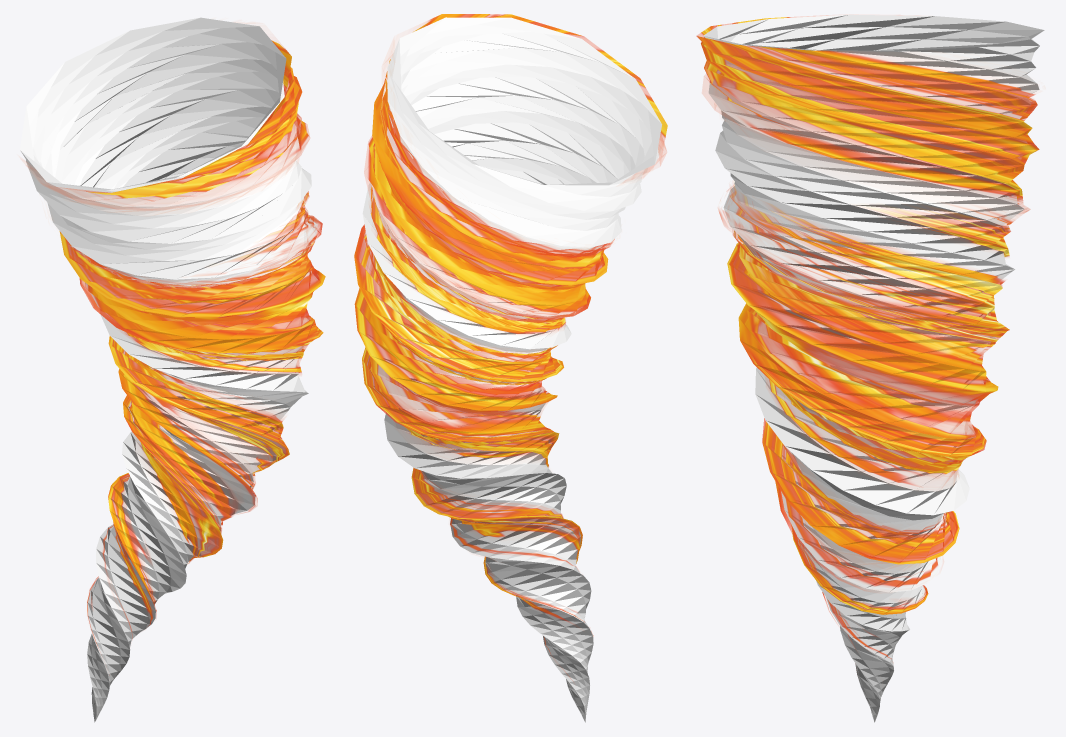
File: Project 40.glb
3 views of the same model, side by side, from view 1: azimuth 30°, elevation 25°; view 2: azimuth 150°, elevation 25°; view 3: azimuth 270°, elevation 25° (orthographic). The views are drawn at different scales.
Parts seen in each view (by area): view 1: Tube, Tube 1, Tube 2; view 2: Tube, Tube 1, Tube 2; view 3: Tube, Tube 1, Tube 2.
Boxes of the visible parts, bbox=[...] form: Tube: bbox=[20, 17, 317, 722]; Tube 1: bbox=[25, 40, 325, 638]; Tube 2: bbox=[79, 191, 323, 650]; Tube: bbox=[359, 17, 661, 722]; Tube 1: bbox=[354, 14, 667, 568]; Tube 2: bbox=[354, 186, 593, 680]; Tube: bbox=[703, 14, 1044, 722]; Tube 1: bbox=[696, 15, 1039, 646]; Tube 2: bbox=[718, 184, 1028, 658].
Bounding box in the file's own units: 1.42 × 3.15 × 1.31.
Materials: 3 (3 with a texture image).
